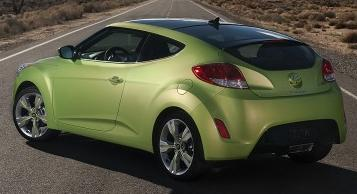back_view: (186, 45, 346, 160)
backlight: (172, 55, 252, 96)
side_glass: (70, 24, 155, 61)
